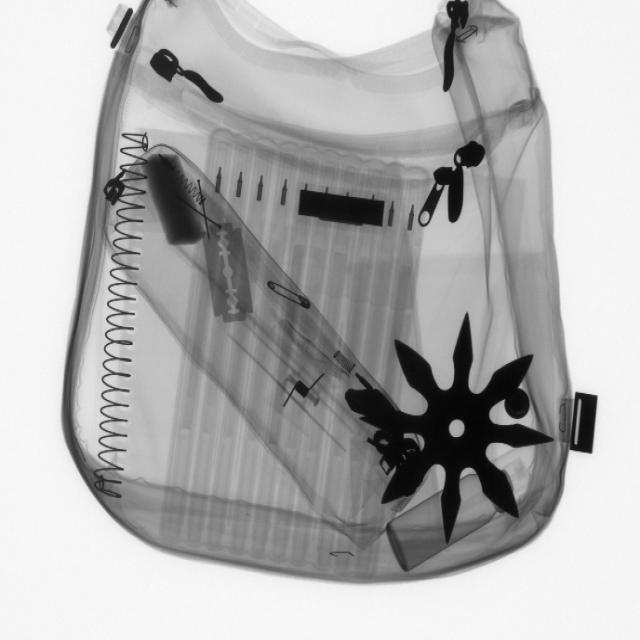BLADE: (198, 207, 260, 328)
SHURIKEN: (358, 315, 552, 549)
